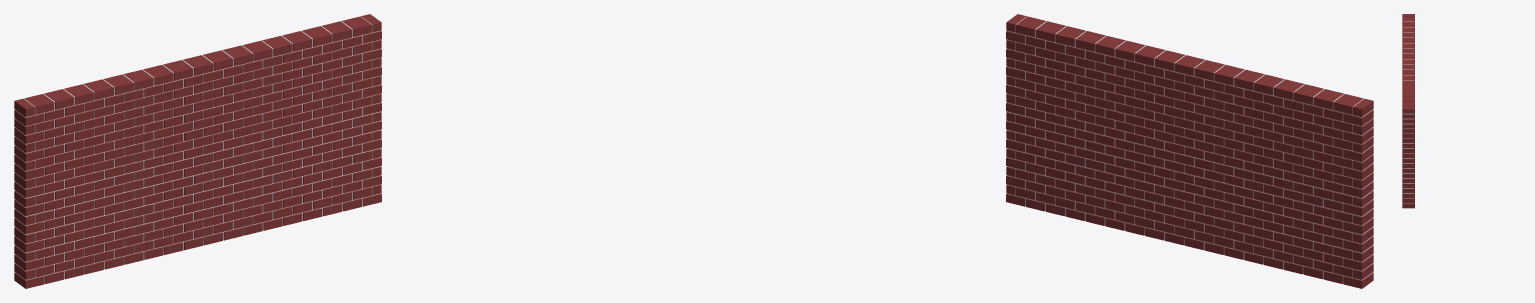
The model's file is wall.fbx.
3 views of the same model, side by side, from view 1: azimuth 30°, elevation 25°; view 2: azimuth 150°, elevation 25°; view 3: azimuth 270°, elevation 25° (orthographic). The views are drawn at different scales.
Visible parts, largest first — view 1: Box20549.003, Box20533.003, Box20532.003, Box20538.003, Box20540.003, Box20519.003, Box20520.003, Box20547.003, Box20535.003, Box20537.003, Box20545.003, Box20541.003 (+6 smaller); view 2: Box20549.003; view 3: Box20549.003, Box20543.003.
Part boxes in pixels (x1,y1,x2,y2): Box20549.003: (15, 17, 380, 283); Box20533.003: (83, 79, 113, 99); Box20532.003: (341, 16, 371, 37); Box20538.003: (123, 69, 153, 90); Box20540.003: (242, 40, 272, 61); Box20519.003: (282, 31, 312, 51); Box20520.003: (44, 89, 74, 109); Box20547.003: (103, 74, 133, 95); Box20535.003: (203, 50, 232, 70); Box20537.003: (163, 60, 193, 80); Box20545.003: (262, 36, 292, 56); Box20541.003: (322, 21, 351, 41); Box20549.003: (1007, 17, 1372, 283); Box20549.003: (1403, 21, 1414, 203); Box20543.003: (1402, 107, 1414, 113).
Size of the model in its own units: 1821594 by 474230 by 515465.
